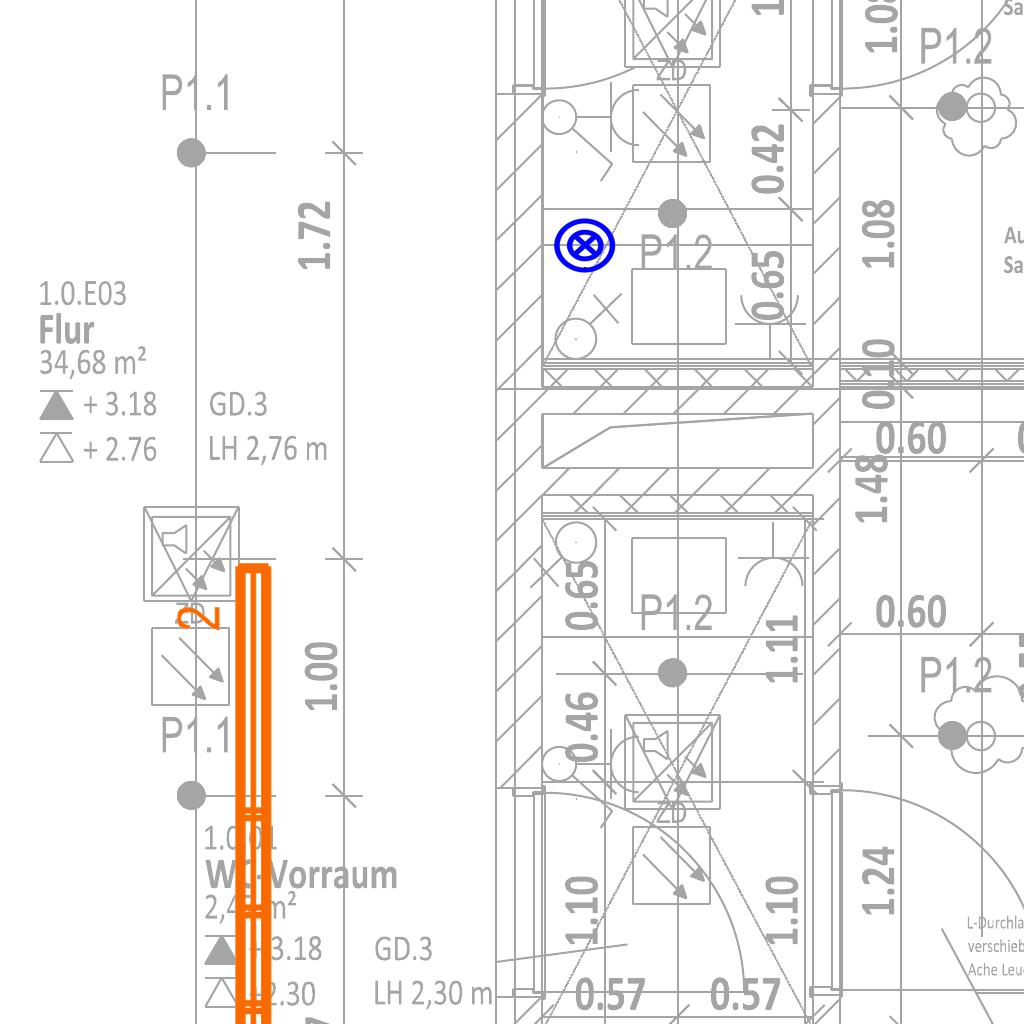Ambulanz_Pendelleuchte_LED: (172, 554, 284, 1024)
Taster_beleuchtet: (552, 212, 618, 278)
